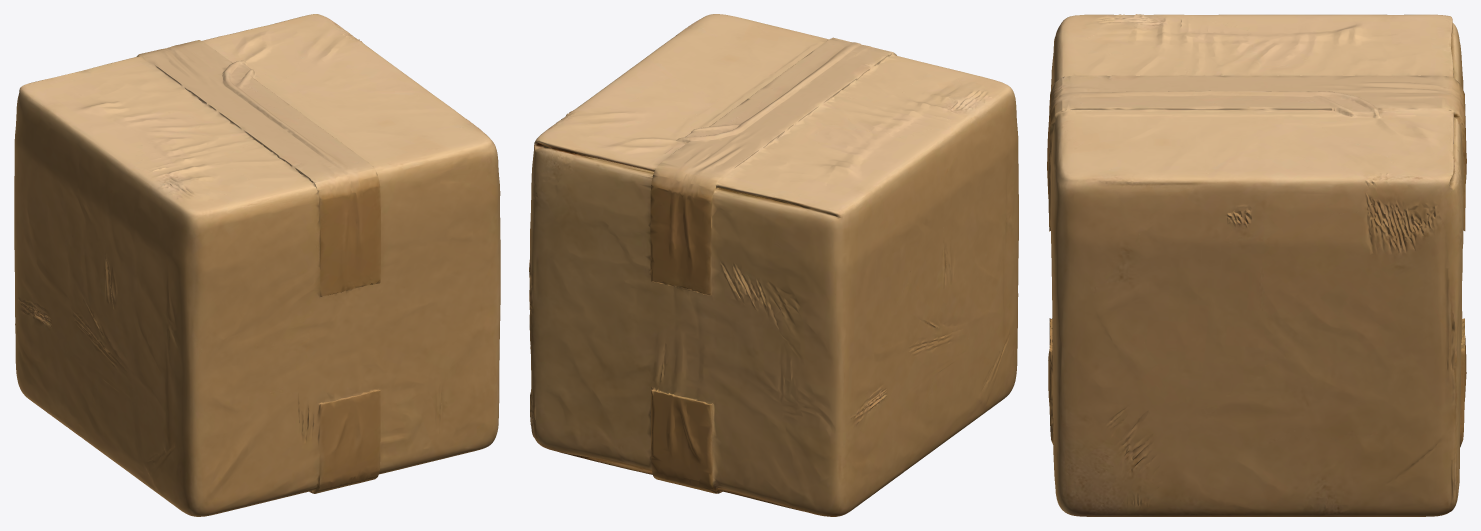
The model's file is caixa.glb.
3 views of the same model, side by side, from view 1: azimuth 30°, elevation 25°; view 2: azimuth 150°, elevation 25°; view 3: azimuth 270°, elevation 25° (orthographic). The views are drawn at different scales.
Visible parts, largest first — view 1: caixa; view 2: caixa; view 3: caixa.
Part boxes in pixels (bbox=[...]): caixa: bbox=[14, 14, 500, 516]; caixa: bbox=[529, 14, 1018, 516]; caixa: bbox=[1047, 14, 1466, 516].
Bounding box in the file's own units: 0.4467 × 0.42 × 0.4545.
1 material, 1 textured.
